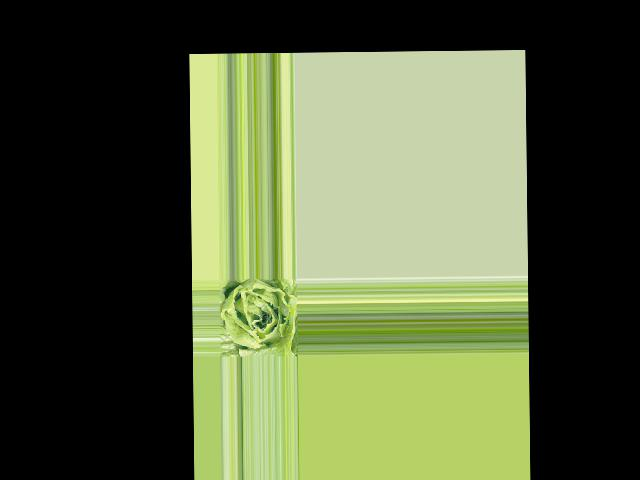lettuce: (220, 279, 297, 357)
